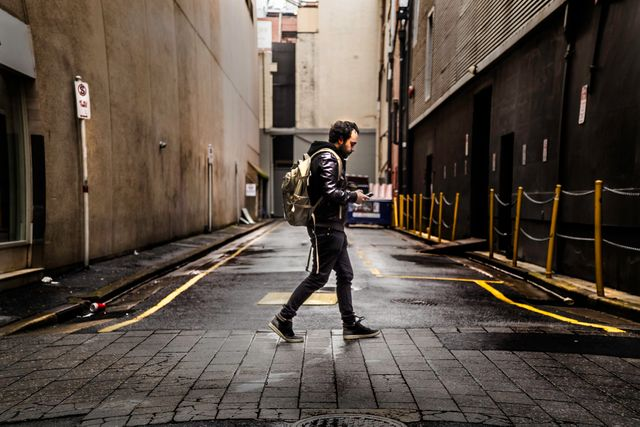person: (267, 117, 374, 351)
